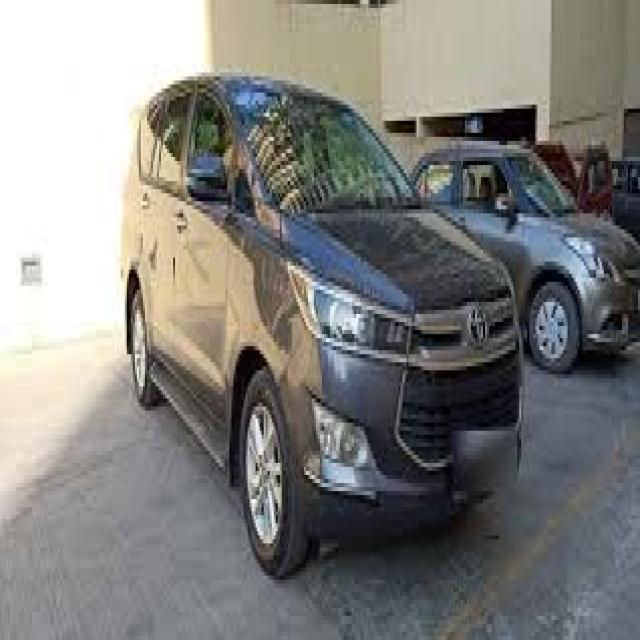light_vehicle: (121, 72, 523, 580)
